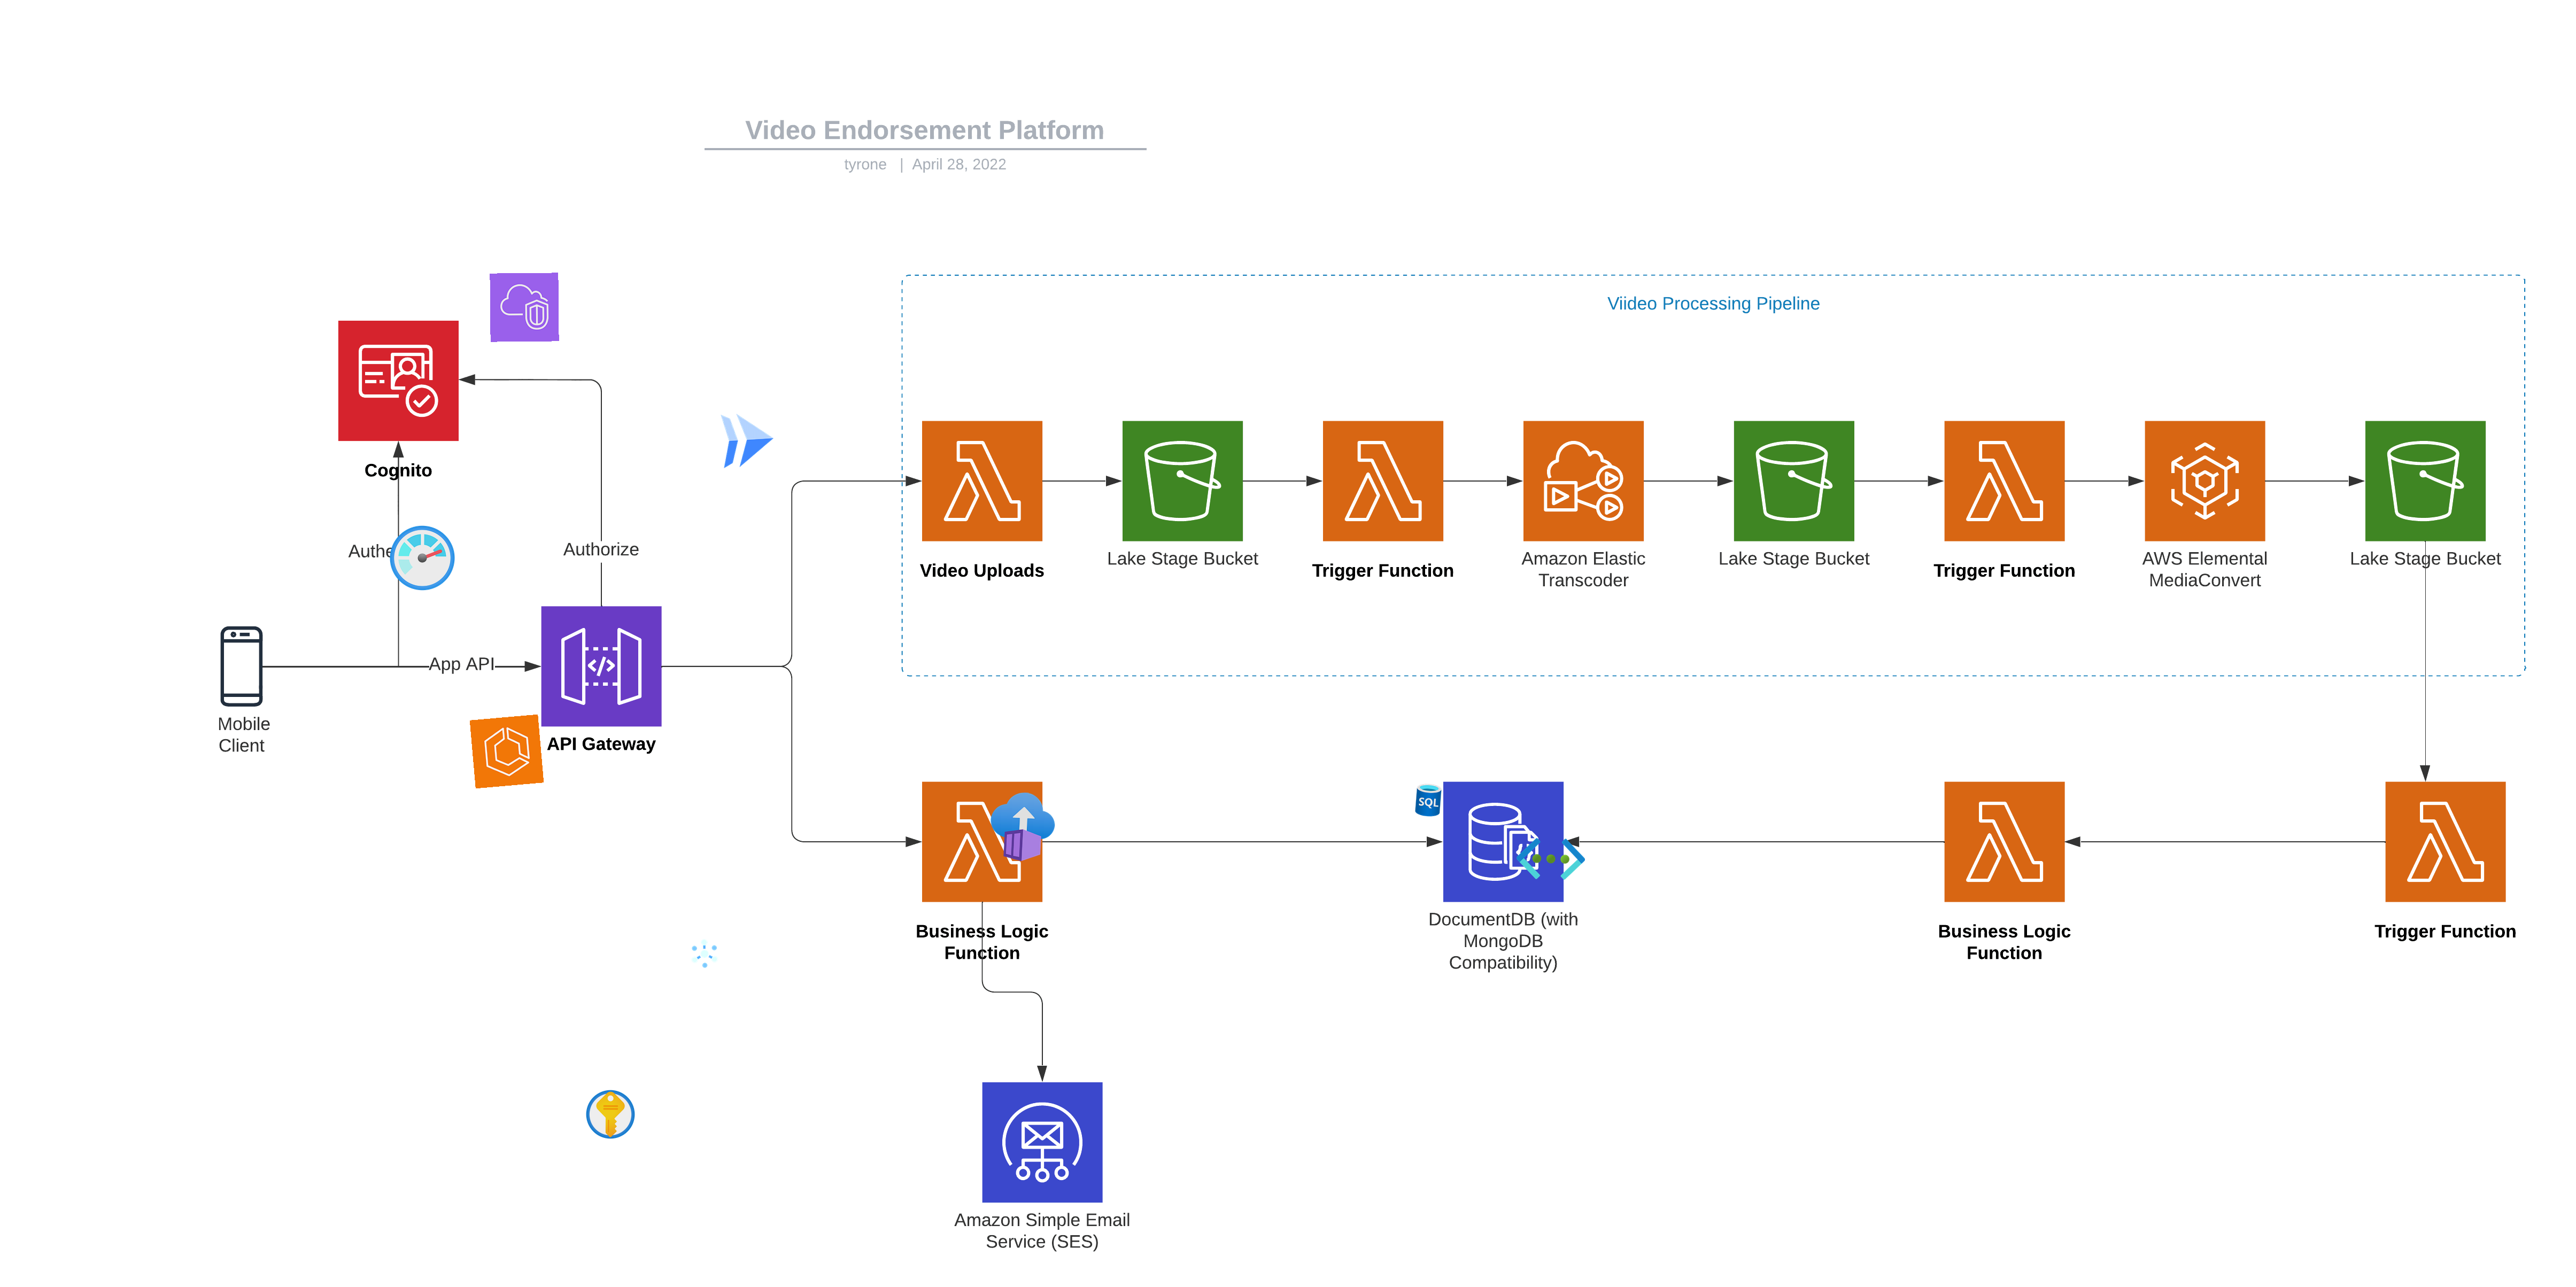aws_amazon_elastic_container_service: (470, 714, 544, 790)
aws_amazon_virtual_private_cloud: (490, 273, 559, 341)
azure_container_instances: (986, 791, 1060, 863)
azure_key_vaults: (585, 1088, 637, 1141)
azure_monitor: (388, 524, 457, 593)
azure_sql_database: (1410, 781, 1447, 819)
azure_virtual_networks: (1515, 824, 1585, 895)
gcp_cloud_run: (710, 404, 784, 476)
gcp_pubsub: (687, 936, 723, 972)
